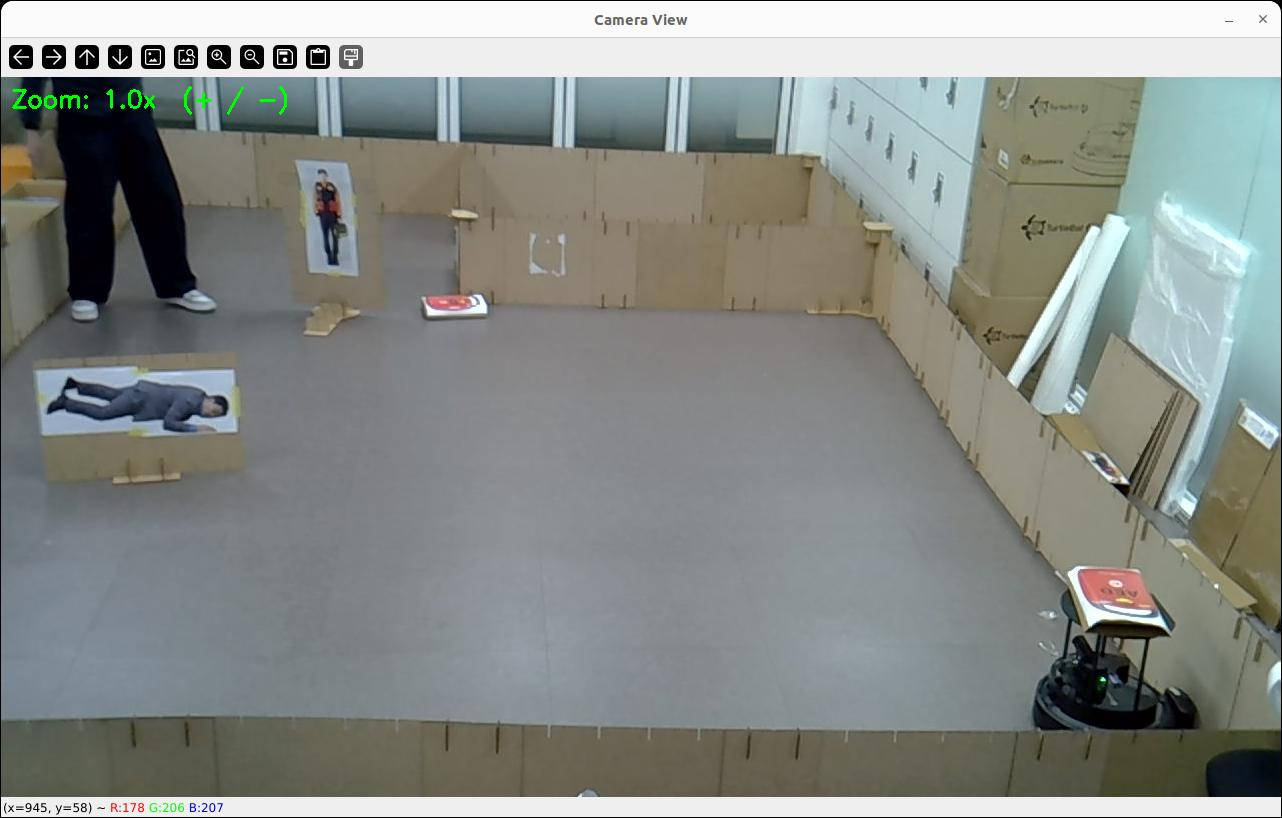Patient: (46, 376, 228, 432)
Responder: (315, 169, 341, 265)
